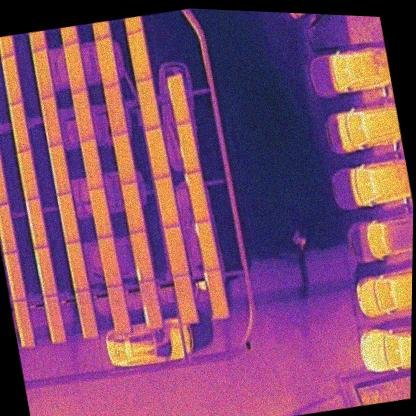Diode: (194, 218, 220, 272), (129, 229, 155, 283), (165, 73, 191, 126), (175, 121, 201, 174), (184, 169, 210, 221), (203, 268, 229, 320), (24, 195, 49, 249), (138, 279, 163, 329), (33, 245, 57, 297)
Normal: (135, 76, 162, 131), (93, 34, 120, 89), (126, 28, 153, 82), (102, 81, 128, 136), (144, 126, 170, 180), (112, 131, 138, 185), (153, 175, 179, 229), (97, 234, 123, 288), (70, 88, 96, 141), (79, 137, 105, 190), (163, 223, 188, 278), (39, 96, 65, 148), (172, 272, 198, 324), (121, 180, 146, 234), (55, 190, 80, 244), (62, 40, 87, 93), (7, 100, 32, 152), (88, 186, 113, 238), (65, 240, 90, 292), (106, 283, 131, 334), (31, 46, 55, 99), (74, 289, 99, 339), (48, 143, 72, 195), (0, 53, 24, 105), (3, 251, 27, 301), (43, 294, 67, 344), (16, 149, 39, 201), (12, 298, 35, 350), (0, 201, 18, 254), (0, 154, 10, 206)
